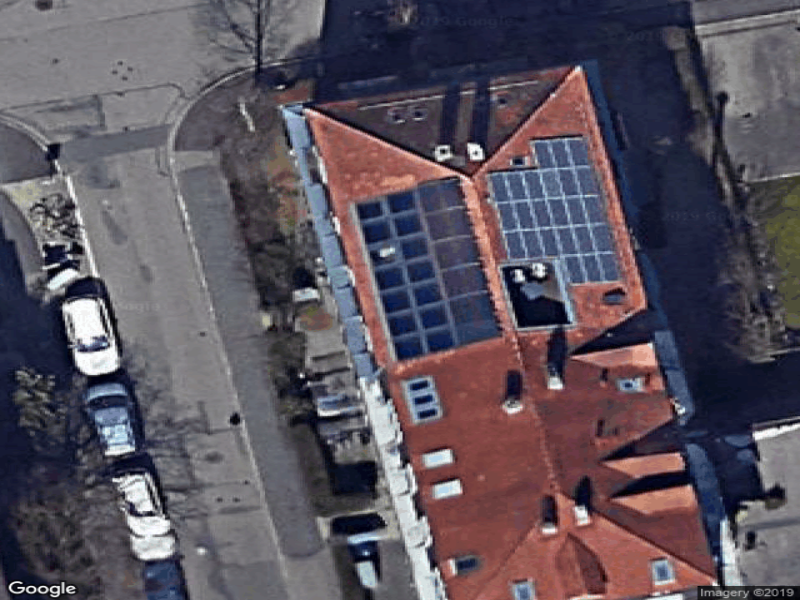pv: (355, 177, 505, 364), (489, 134, 627, 286)
